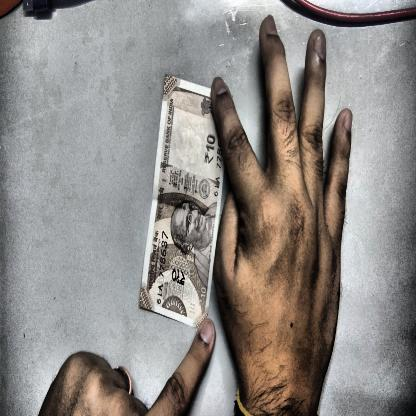Rs10: (202, 129, 218, 168)
